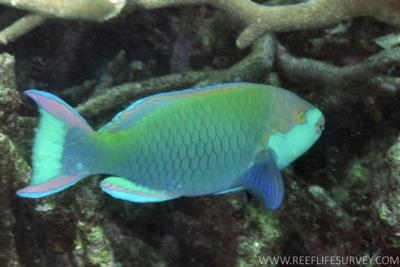Scaridae -Parrotfishes-: (13, 68, 326, 216)
